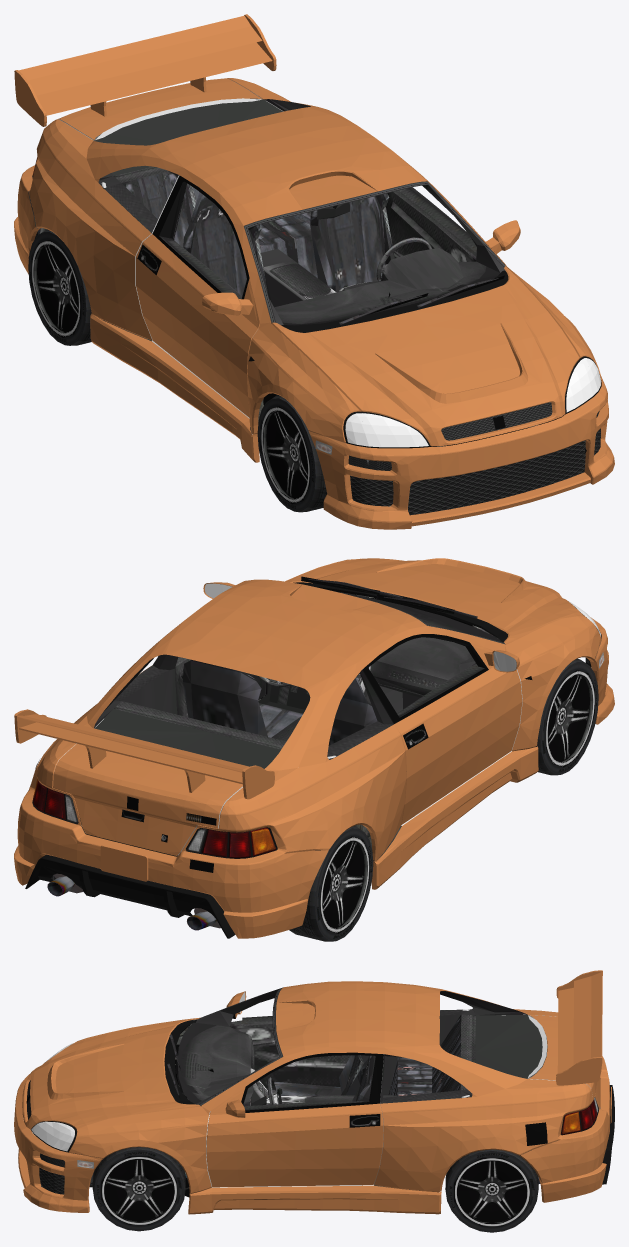
Rendered from car3.glb.
The picture shows the model from 3 angles, top to bottom: view 1: azimuth 30°, elevation 25°; view 2: azimuth 150°, elevation 25°; view 3: azimuth 270°, elevation 25°; orthographic projection. The views are drawn at different scales.
Bounding box in the file's own units: 1.97 × 1.31 × 4.2.
Materials: 18 (15 with a texture image).
